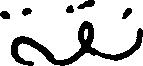X: (0, 3, 47, 65), (78, 0, 93, 63), (135, 23, 142, 55)
